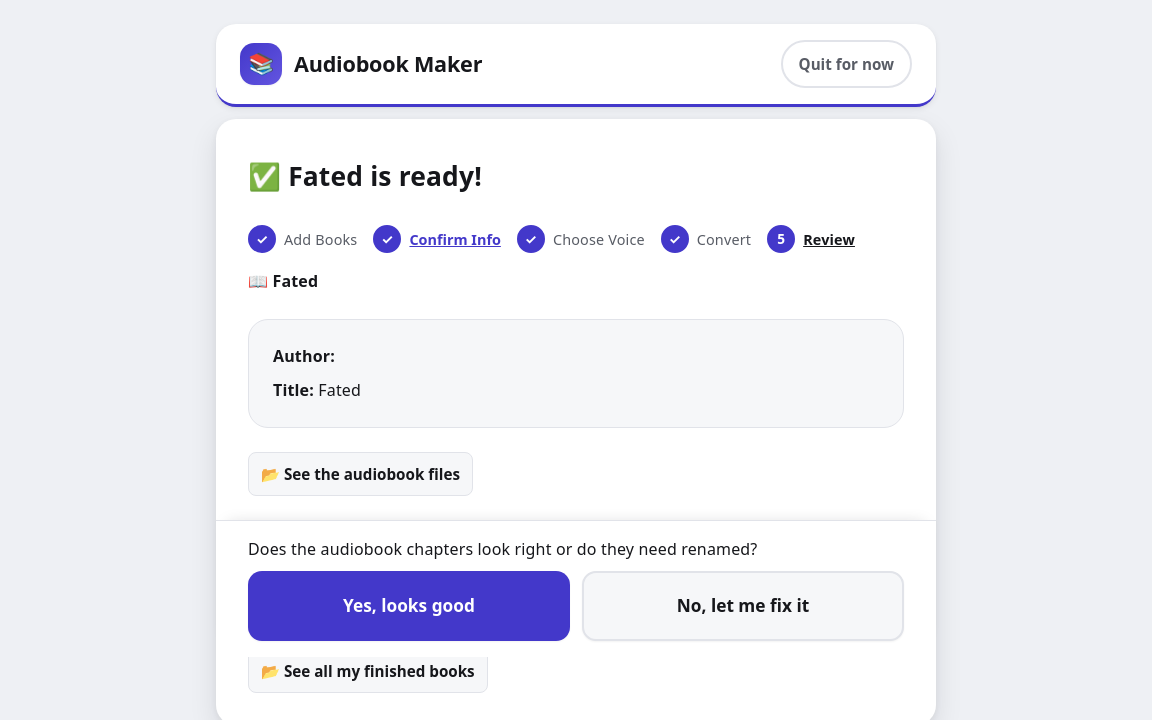
Test: App › switches from Review to the fix-it flow locally when she says No
The image size is (1152, 720).
Expected: the heading "✅ Fated is ready!" is shown, [248,158,482,194]
Click the button "No, let me fix it": point(743, 606) [582,571,904,641]
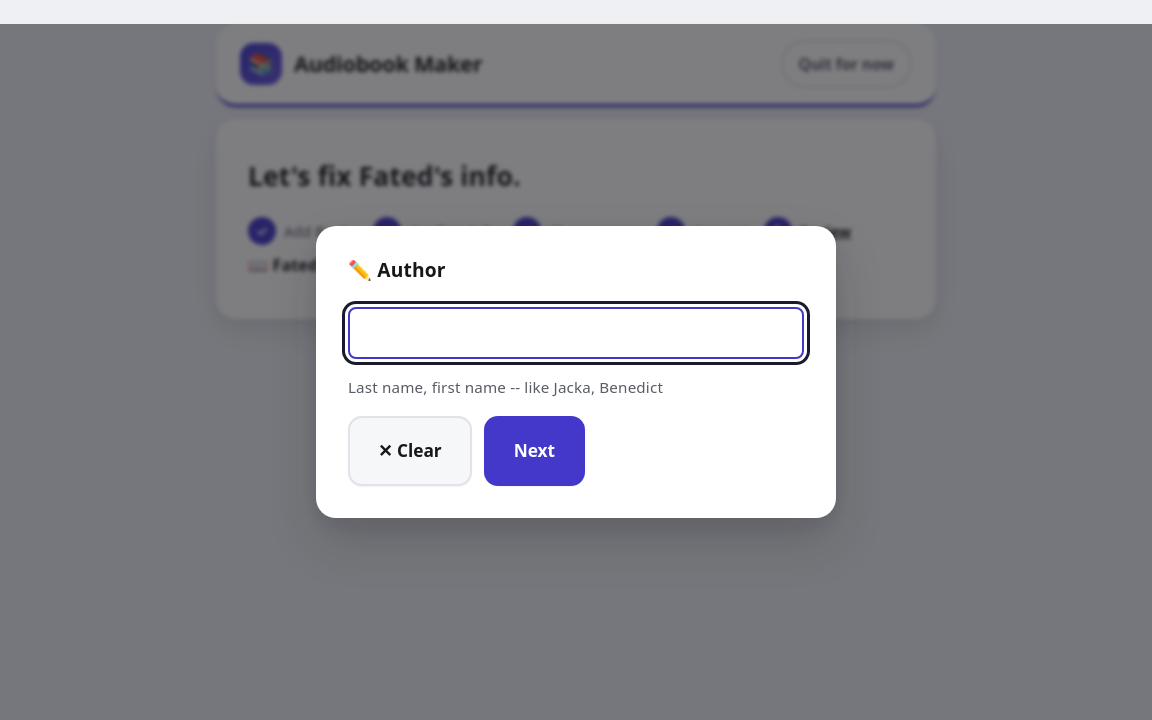
Expected: the heading "Let's fix Fated's info." is shown, [248,158,521,194]
Press Escape
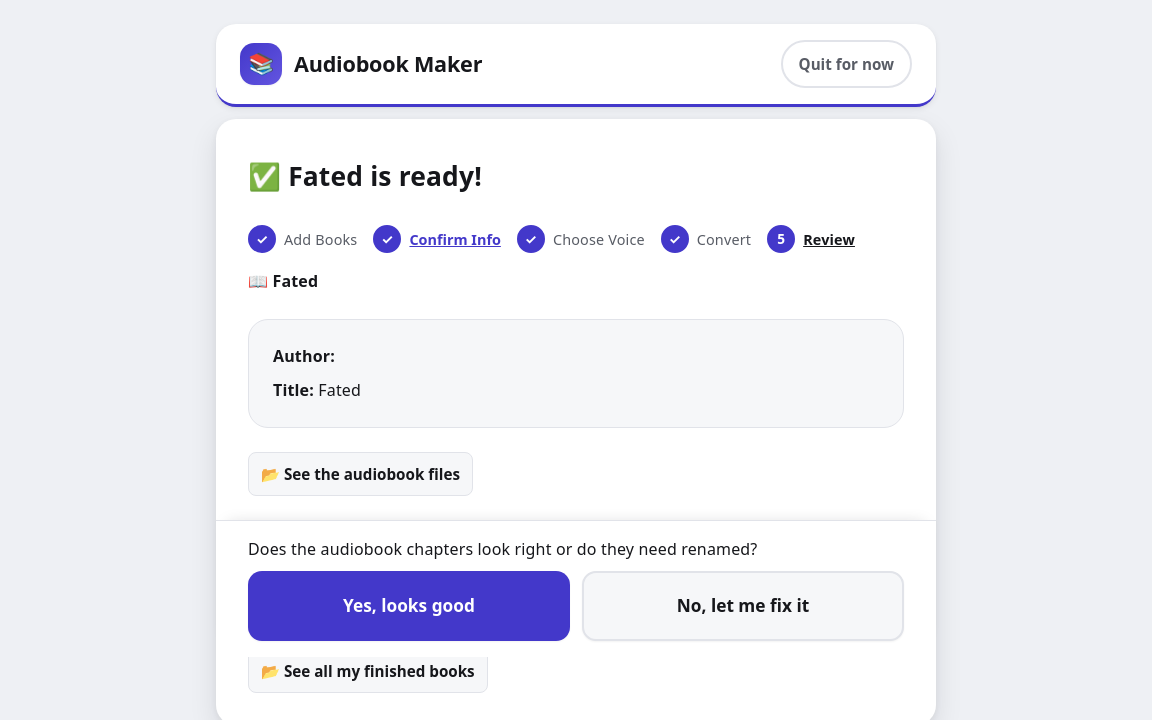
Expected: the heading "✅ Fated is ready!" is shown, [248,158,482,194]
